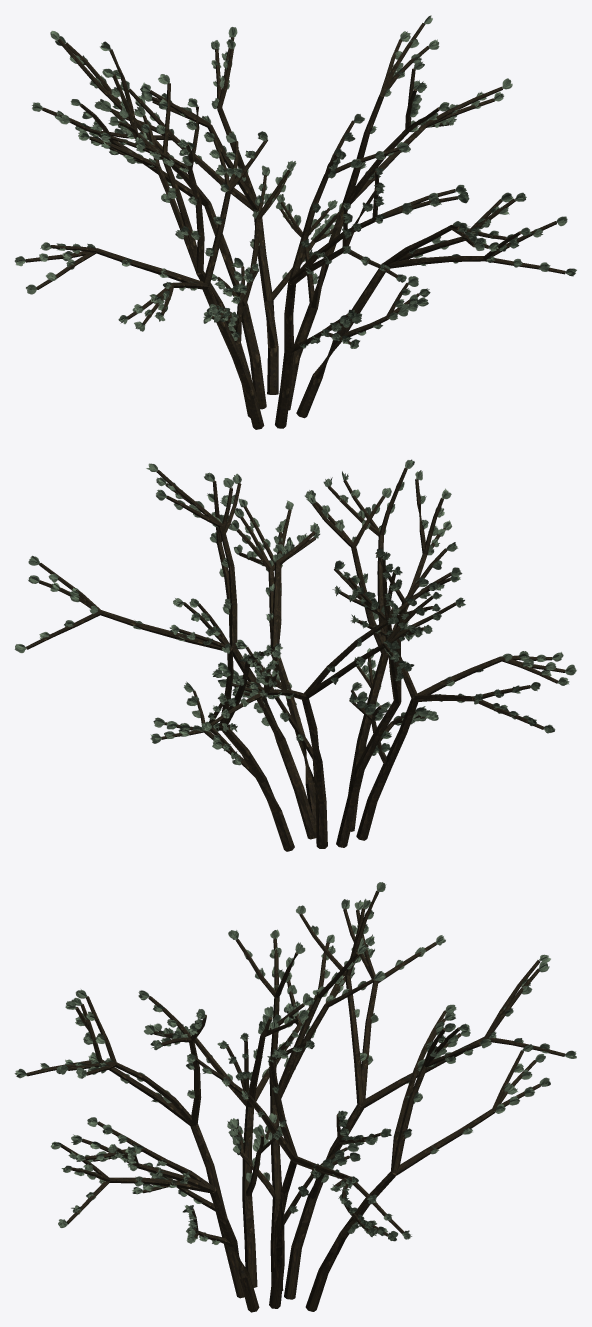
Rendered from alder_thicket_v02.glb.
The picture shows the model from 3 angles, top to bottom: view 1: azimuth 30°, elevation 25°; view 2: azimuth 150°, elevation 25°; view 3: azimuth 270°, elevation 25°; orthographic projection. The views are drawn at different scales.
Visible parts, largest first — view 1: alder_thicket_v02; view 2: alder_thicket_v02; view 3: alder_thicket_v02.
Boxes of the visible parts, box(x1,y1,x2,y2) form: alder_thicket_v02: box(14, 15, 576, 429); alder_thicket_v02: box(15, 459, 576, 851); alder_thicket_v02: box(14, 882, 576, 1312).
Size of the model in its own units: 8.94 by 6.07 by 8.5.
Materials: 2 (2 with a texture image).
